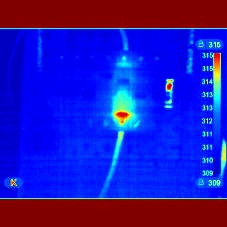Critical: (103, 101, 145, 133)
